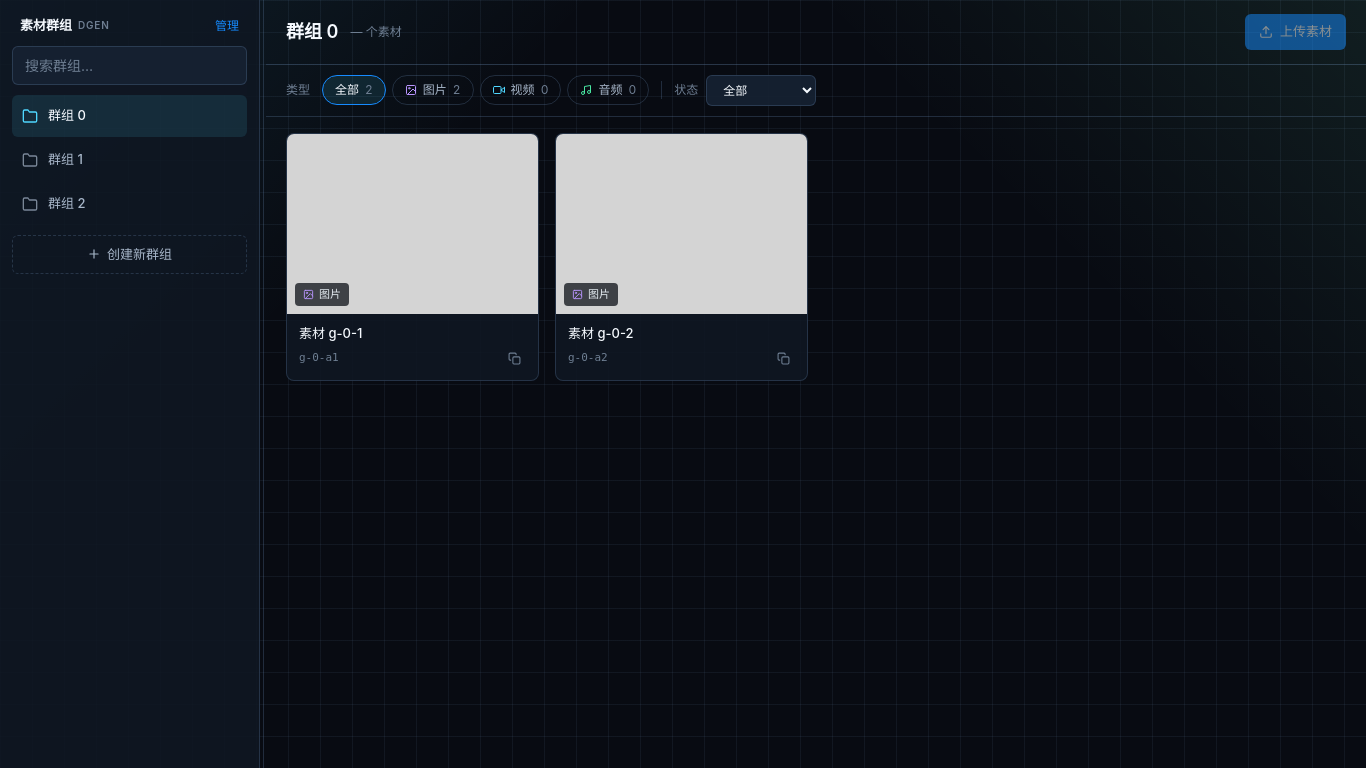
Test: selected-group asset count in the header › an older in-flight count for a re-selected group cannot overwrite the fresher one
The width and height of the screenshot is (1366, 768).
Expected: the element with test id "group-row-g-0" is shown, x1=12 y1=94 x2=247 y2=136
Click the element with test id "group-row-g-1" at (52, 159), box x1=22 y1=151 x2=83 y2=168
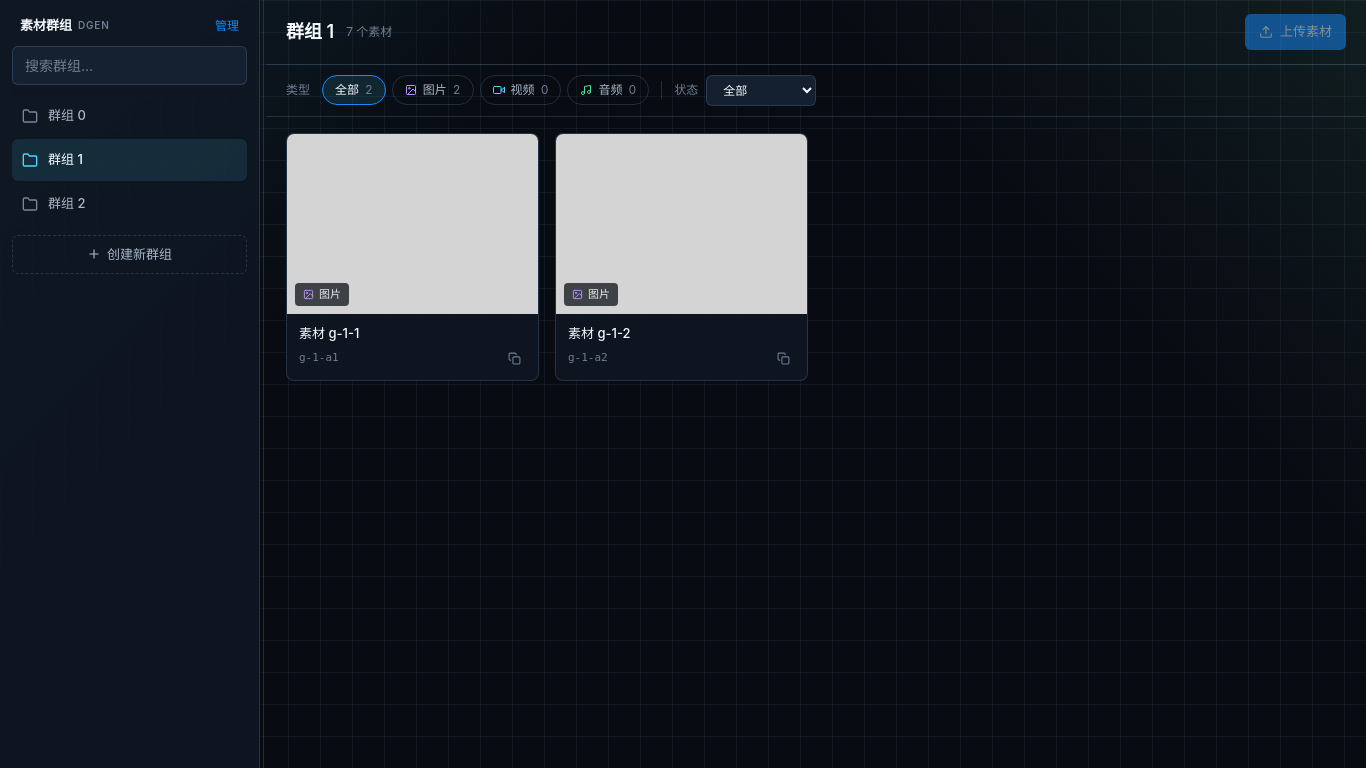
Expected: the text "7 个素材" is shown, x1=346 y1=23 x2=392 y2=41
Click the element with test id "group-row-g-0" at (54, 115), box x1=22 y1=107 x2=86 y2=124
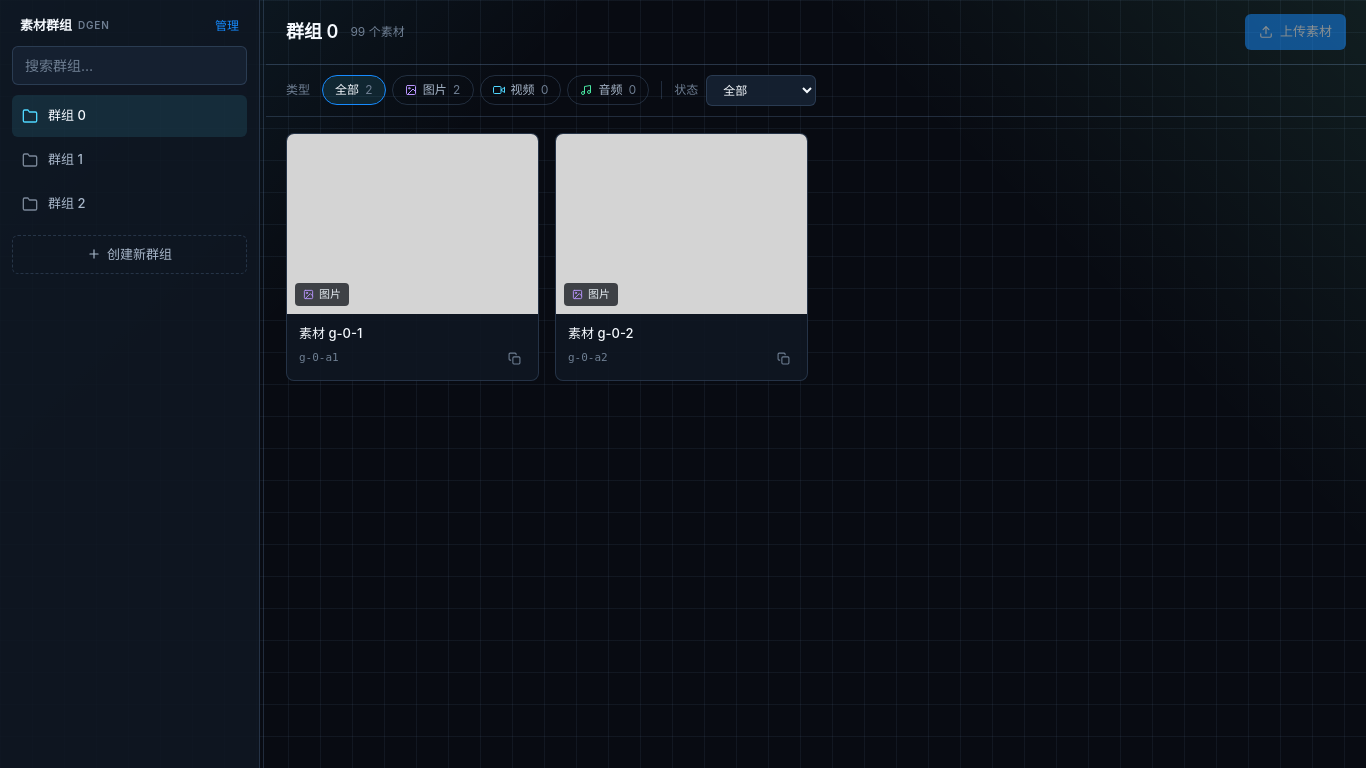
Expected: the text "99 个素材" is shown, x1=350 y1=23 x2=405 y2=41
